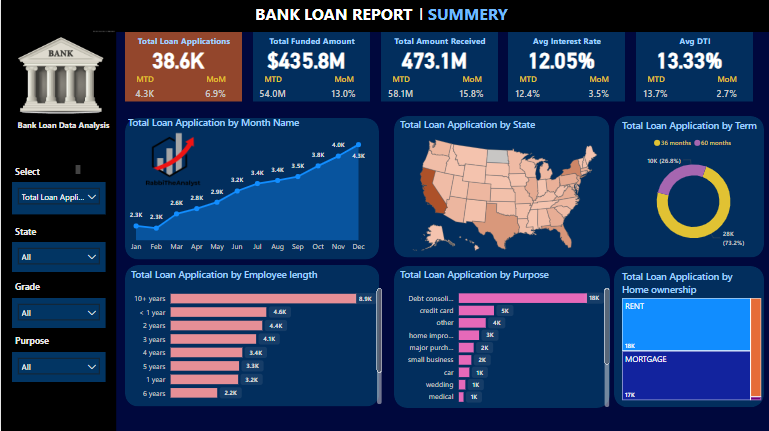

The dashboard page shown, as its layout file describes it:
{"tool":"powerbi","page":{"name":"Page 1","canvas":[1280,720],"ordinal":0},"visuals":[{"type":"shape","box":[0,0,1280,55],"z":0},{"type":"shape","box":[654.3,194.9,359.3,236],"z":0,"group":"g6"},{"type":"shape","box":[0,55.7,192,665],"z":1000},{"type":"shapeMap","fields":{"Value":["bank_loan_data.Total Loan Application"],"Category":["bank_loan_data.address_state"]},"box":[660,197.5,360,236.2],"z":1000,"group":"g6"},{"type":"textbox","box":[418.8,1.5,442.3,54.4],"z":2000},{"type":"group","id":"g1","title":"Group 1","box":[162.2,55.6,266.7,123.3],"z":3000},{"type":"shape","box":[207.2,55.9,195.4,116.1],"z":3000,"group":"g1"},{"type":"shape","box":[420,55.9,195.4,116.1],"z":3000,"group":"g2"},{"type":"shape","box":[632.8,55.9,195.4,116.1],"z":3000,"group":"g3"},{"type":"shape","box":[845.6,55.9,195.4,116.1],"z":3000,"group":"g4"},{"type":"shape","box":[1058.3,55.9,195.4,116.1],"z":3000,"group":"g5"},{"type":"card","fields":{"Values":["bank_loan_data.Total Loan Application"]},"box":[162.2,55.6,266.7,88.9],"z":4000,"group":"g1"},{"type":"group","id":"g2","title":"Group 1","box":[375,55.6,266.7,123.3],"z":4000},{"type":"card","fields":{"Values":["bank_loan_data.Total Funded Amount"]},"box":[375,55.6,266.7,88.9],"z":4000,"group":"g2"},{"type":"card","fields":{"Values":["bank_loan_data.Total Amount Recieved"]},"box":[587.8,55.6,266.7,88.9],"z":4000,"group":"g3"},{"type":"card","fields":{"Values":["bank_loan_data.Avg Interest Rate"]},"box":[800.6,55.6,266.7,88.9],"z":4000,"group":"g4"},{"type":"card","fields":{"Values":["bank_loan_data.Avg DTI"]},"box":[1013.3,55.6,266.7,88.9],"z":4000,"group":"g5"},{"type":"group","id":"g3","title":"Group 1","box":[587.8,55.6,266.7,123.3],"z":5000},{"type":"textbox","box":[218.9,55.9,173.4,32.3],"z":5000,"group":"g1"},{"type":"textbox","box":[431.7,55.9,173.4,32.3],"z":5000,"group":"g2"},{"type":"textbox","box":[644.5,55.9,173.4,32.3],"z":5000,"group":"g3"},{"type":"textbox","box":[857.3,55.9,173.4,32.3],"z":5000,"group":"g4"},{"type":"textbox","box":[1070,55.9,173.4,32.3],"z":5000,"group":"g5"},{"type":"group","id":"g4","title":"Group 1","box":[800.6,55.6,266.7,123.3],"z":6000},{"type":"card","title":"MTD","fields":{"Values":["bank_loan_data.MTD Loan Applications"]},"box":[206.6,125.6,66.7,53.3],"z":6000,"group":"g1"},{"type":"card","title":"MTD","fields":{"Values":["bank_loan_data.MTD Total Funded"]},"box":[419.4,125.6,66.7,53.3],"z":6000,"group":"g2"},{"type":"card","title":"MTD","fields":{"Values":["bank_loan_data.MTD Total Amount Received"]},"box":[632.2,125.6,66.7,53.3],"z":6000,"group":"g3"},{"type":"card","title":"MTD","fields":{"Values":["bank_loan_data.MTD Avg Interest Rate"]},"box":[845,125.6,66.7,53.3],"z":6000,"group":"g4"},{"type":"card","title":"MTD","fields":{"Values":["bank_loan_data.MTD Avg DTI"]},"box":[1057.7,125.6,66.7,53.3],"z":6000,"group":"g5"},{"type":"group","id":"g5","title":"Group 1","box":[1013.3,55.6,266.7,123.3],"z":7000},{"type":"card","title":"MoM","fields":{"Values":["bank_loan_data.MoM Loan Applications"]},"box":[325.5,125.6,66.7,53.3],"z":7000,"group":"g1"},{"type":"card","title":"MoM","fields":{"Values":["bank_loan_data.MoM Total FUnded Amount"]},"box":[538.3,125.6,66.7,53.3],"z":7000,"group":"g2"},{"type":"card","title":"MoM","fields":{"Values":["bank_loan_data.MoM Total Received Amount"]},"box":[751.1,125.6,66.7,53.3],"z":7000,"group":"g3"},{"type":"card","title":"MoM","fields":{"Values":["bank_loan_data.MoM Avg Interest Rate"]},"box":[963.9,125.6,66.7,53.3],"z":7000,"group":"g4"},{"type":"card","title":"MoM","fields":{"Values":["bank_loan_data.MoM Avg DTI"]},"box":[1176.6,125.6,66.7,53.3],"z":7000,"group":"g5"},{"type":"shape","box":[206.2,197.5,423.8,236.2],"z":8000},{"type":"areaChart","fields":{"Y2":["bank_loan_data.Total Loan Application"],"Category":["Date Table.Month Name"]},"box":[207.4,194.9,407.6,236],"z":9000},{"type":"slicer","fields":{"Values":["New Measurement.New Measurement"]},"box":[17.9,305.7,155.5,53.6],"z":10000},{"type":"slicer","fields":{"Values":["bank_loan_data.address_state"]},"box":[17.9,405.8,155.5,50.1],"z":11000},{"type":"textbox","box":[18.6,271.4,118.6,34.3],"z":12000},{"type":"textbox","box":[18.6,371.4,118.6,34.3],"z":13000},{"type":"shape","box":[654.4,444.4,360,236.7],"z":14000},{"type":"group","id":"g6","title":"Group 2","box":[654.3,194.9,365.7,238.9],"z":15000},{"type":"shape","box":[1022,195,250,236],"z":16000},{"type":"donutChart","fields":{"Y":["bank_loan_data.Total Loan Application"],"Category":["bank_loan_data.term"]},"box":[1030,200,249,226],"z":17000},{"type":"shape","box":[206,444,424,236],"z":18000},{"type":"barChart","fields":{"Y":["bank_loan_data.Total Loan Application"],"Category":["bank_loan_data.emp_length"]},"box":[212,448,428,232],"z":19000},{"type":"barChart","fields":{"Y":["bank_loan_data.Total Loan Application"],"Category":["bank_loan_data.purpose"]},"box":[660,447.8,358.9,236.7],"z":20000},{"type":"shape","box":[1022.2,444.4,250,235.6],"z":21000},{"type":"treemap","fields":{"Values":["bank_loan_data.Total Loan Application"],"Group":["bank_loan_data.home_ownership"]},"box":[1030,451.1,242.2,222.2],"z":22000},{"type":"slicer","fields":{"Values":["bank_loan_data.grade"]},"box":[17.8,497.8,155.6,50],"z":23000},{"type":"textbox","box":[18.9,553.3,117.8,34.4],"z":24000},{"type":"slicer","fields":{"Values":["bank_loan_data.purpose"]},"box":[17.8,587.8,155.6,50],"z":25000},{"type":"textbox","box":[17.8,463.3,117.8,34.4],"z":26000},{"type":"image","box":[0,40,196.4,175.5],"z":28000},{"type":"textbox","box":[16.4,197.3,174.5,30.9],"z":29000},{"type":"image","box":[155,175,263.3,193.3],"z":30000}]}

Visuals, with their boxes in screenshot pixels (x1, y1, x2, y2), scaled from the page's 1280x720 canvas onto the 769x431 screenshot:
shape: x1=0 y1=0 x2=768 y2=33
shape: x1=393 y1=117 x2=609 y2=258
shape: x1=0 y1=33 x2=115 y2=430
shapeMap - bank_loan_data.Total Loan Application x bank_loan_data.address_state: x1=397 y1=118 x2=613 y2=260
textbox: x1=252 y1=1 x2=517 y2=33
"Group 1" group: x1=97 y1=33 x2=258 y2=107
shape: x1=124 y1=33 x2=242 y2=103
shape: x1=252 y1=33 x2=370 y2=103
shape: x1=380 y1=33 x2=498 y2=103
shape: x1=508 y1=33 x2=625 y2=103
shape: x1=636 y1=33 x2=753 y2=103
card - bank_loan_data.Total Loan Application: x1=97 y1=33 x2=258 y2=86
"Group 1" group: x1=225 y1=33 x2=386 y2=107
card - bank_loan_data.Total Funded Amount: x1=225 y1=33 x2=386 y2=86
card - bank_loan_data.Total Amount Recieved: x1=353 y1=33 x2=513 y2=86
card - bank_loan_data.Avg Interest Rate: x1=481 y1=33 x2=641 y2=86
card - bank_loan_data.Avg DTI: x1=609 y1=33 x2=768 y2=86
"Group 1" group: x1=353 y1=33 x2=513 y2=107
textbox: x1=132 y1=33 x2=236 y2=53
textbox: x1=259 y1=33 x2=364 y2=53
textbox: x1=387 y1=33 x2=491 y2=53
textbox: x1=515 y1=33 x2=619 y2=53
textbox: x1=643 y1=33 x2=747 y2=53
"Group 1" group: x1=481 y1=33 x2=641 y2=107
"MTD" card: x1=124 y1=75 x2=164 y2=107
"MTD" card: x1=252 y1=75 x2=292 y2=107
"MTD" card: x1=380 y1=75 x2=420 y2=107
"MTD" card: x1=508 y1=75 x2=548 y2=107
"MTD" card: x1=635 y1=75 x2=676 y2=107
"Group 1" group: x1=609 y1=33 x2=768 y2=107
"MoM" card: x1=196 y1=75 x2=236 y2=107
"MoM" card: x1=323 y1=75 x2=363 y2=107
"MoM" card: x1=451 y1=75 x2=491 y2=107
"MoM" card: x1=579 y1=75 x2=619 y2=107
"MoM" card: x1=707 y1=75 x2=747 y2=107
shape: x1=124 y1=118 x2=378 y2=260
areaChart - bank_loan_data.Total Loan Application x Date Table.Month Name: x1=125 y1=117 x2=369 y2=258
slicer - New Measurement.New Measurement: x1=11 y1=183 x2=104 y2=215
slicer - bank_loan_data.address_state: x1=11 y1=243 x2=104 y2=273
textbox: x1=11 y1=162 x2=82 y2=183
textbox: x1=11 y1=222 x2=82 y2=243
shape: x1=393 y1=266 x2=609 y2=408
"Group 2" group: x1=393 y1=117 x2=613 y2=260
shape: x1=614 y1=117 x2=764 y2=258
donutChart - bank_loan_data.Total Loan Application x bank_loan_data.term: x1=619 y1=120 x2=768 y2=255
shape: x1=124 y1=266 x2=378 y2=407
barChart - bank_loan_data.Total Loan Application x bank_loan_data.emp_length: x1=127 y1=268 x2=384 y2=407
barChart - bank_loan_data.Total Loan Application x bank_loan_data.purpose: x1=397 y1=268 x2=612 y2=410
shape: x1=614 y1=266 x2=764 y2=407
treemap - bank_loan_data.Total Loan Application x bank_loan_data.home_ownership: x1=619 y1=270 x2=764 y2=403
slicer - bank_loan_data.grade: x1=11 y1=298 x2=104 y2=328
textbox: x1=11 y1=331 x2=82 y2=352
slicer - bank_loan_data.purpose: x1=11 y1=352 x2=104 y2=382
textbox: x1=11 y1=277 x2=81 y2=298
image: x1=0 y1=24 x2=118 y2=129
textbox: x1=10 y1=118 x2=115 y2=137
image: x1=93 y1=105 x2=251 y2=220
